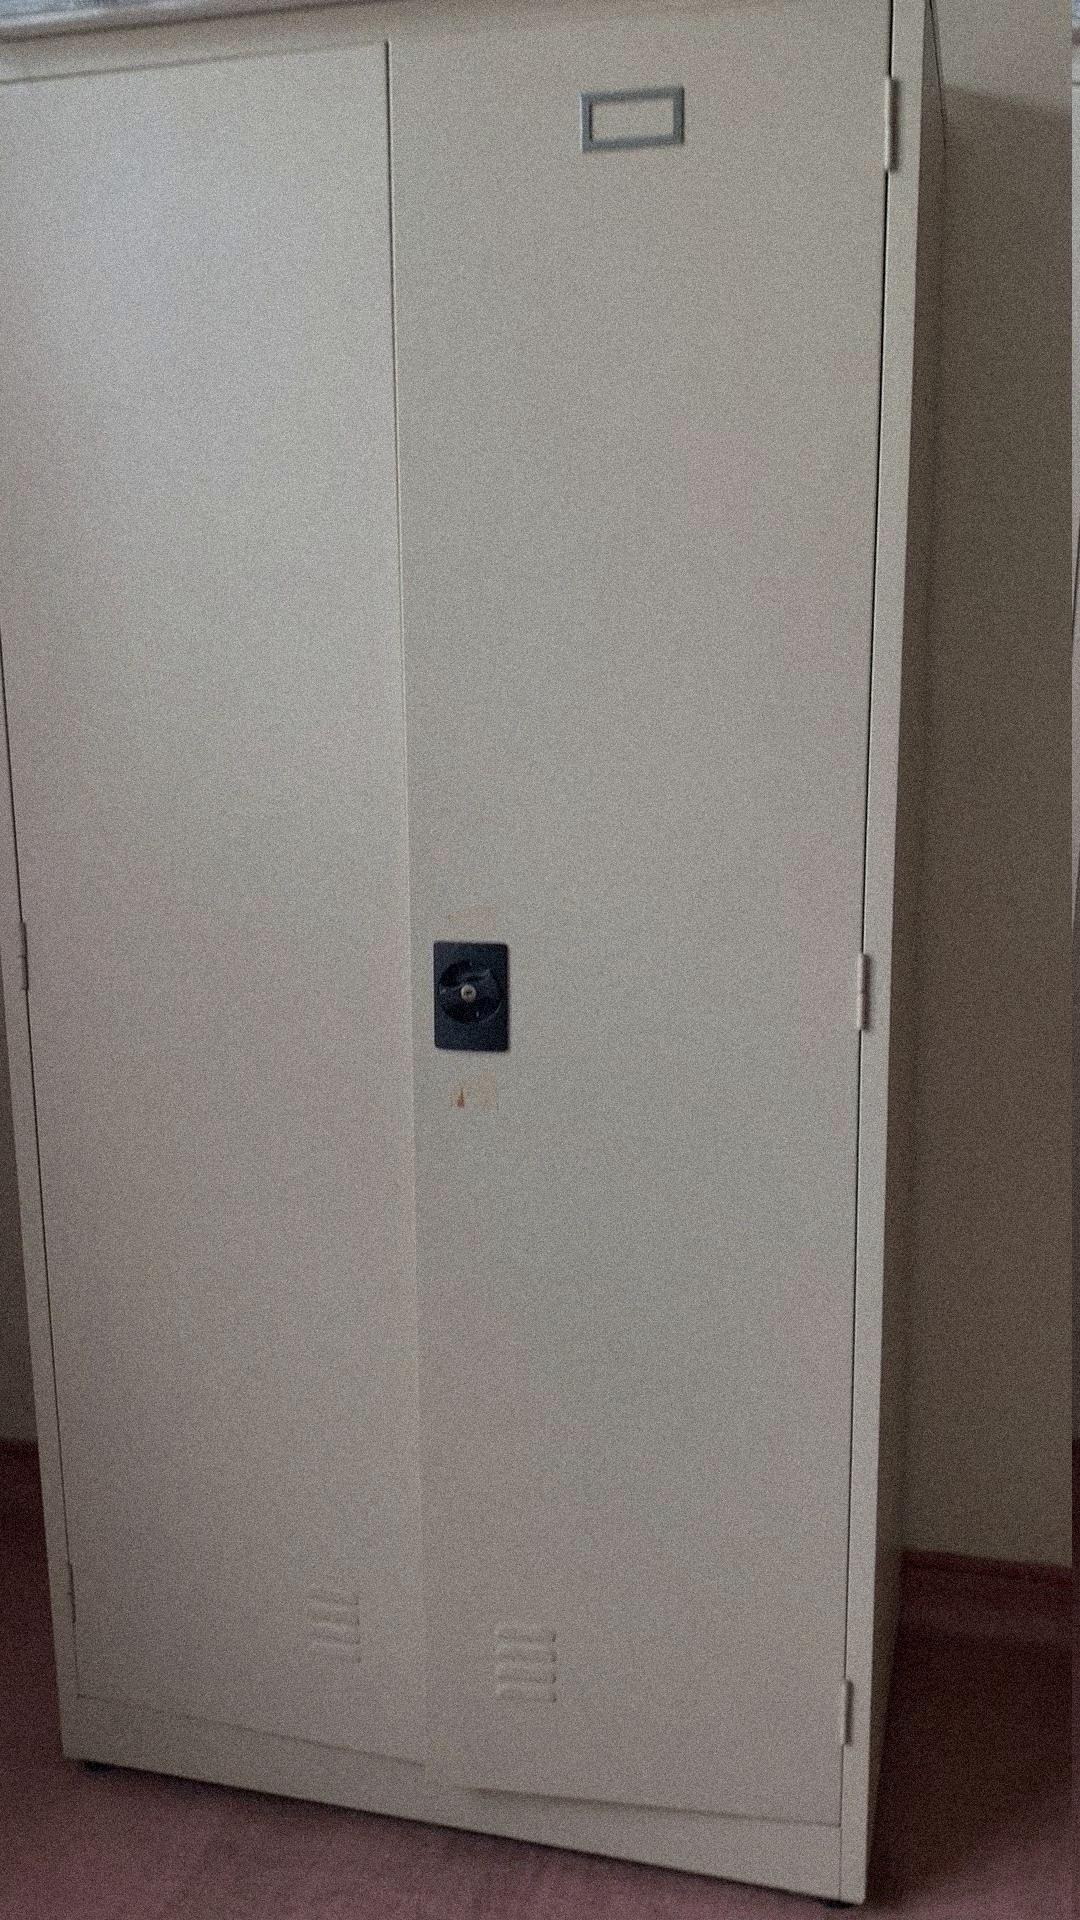Armario: (31, 25, 899, 1900)
